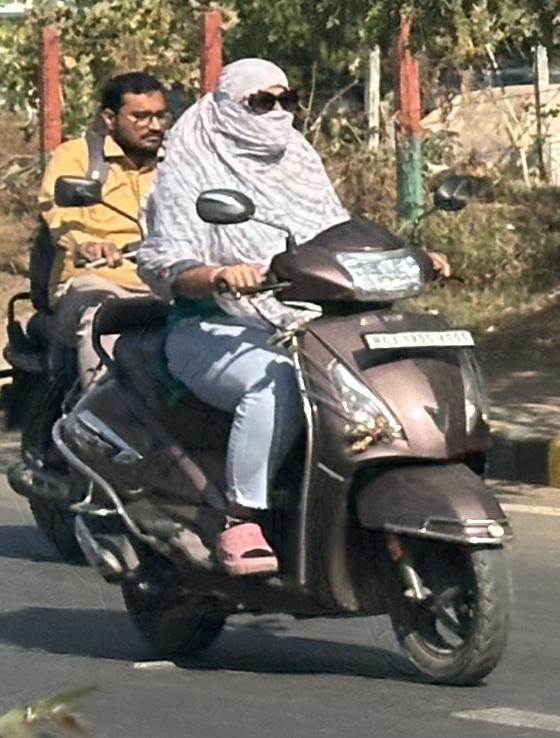BikeWithRider: (40, 50, 527, 692), (0, 60, 208, 571)
NoHelmet: (195, 52, 310, 148), (84, 65, 184, 160)
